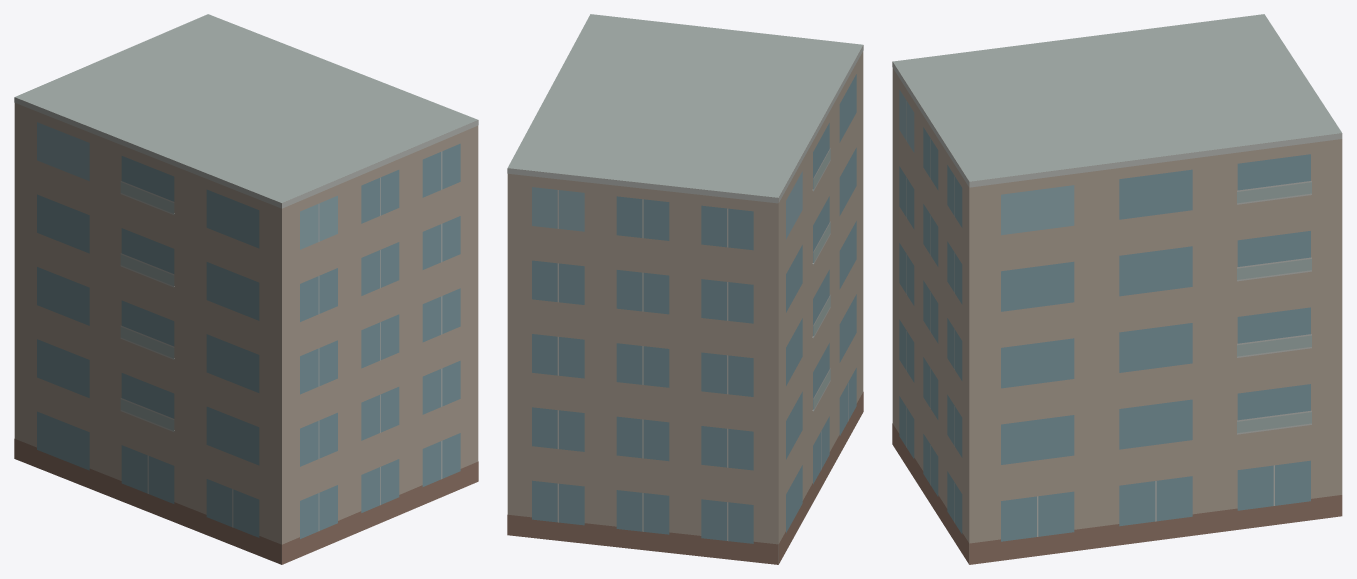
Rendered from survey-upis-32963494.glb.
3 views of the same model, side by side, from view 1: azimuth 30°, elevation 25°; view 2: azimuth 150°, elevation 25°; view 3: azimuth 270°, elevation 25° (orthographic). The views are drawn at different scales.
Parts seen in each view (by area): view 1: survey-upis-32963494.tmp; view 2: survey-upis-32963494.tmp; view 3: survey-upis-32963494.tmp.
Boxes of the visible parts, x1=… form: survey-upis-32963494.tmp: x1=14, y1=14, x2=478, y2=564; survey-upis-32963494.tmp: x1=507, y1=14, x2=863, y2=564; survey-upis-32963494.tmp: x1=892, y1=14, x2=1342, y2=564.
Bounding box in the file's own units: 15.04 × 16 × 17.03.
